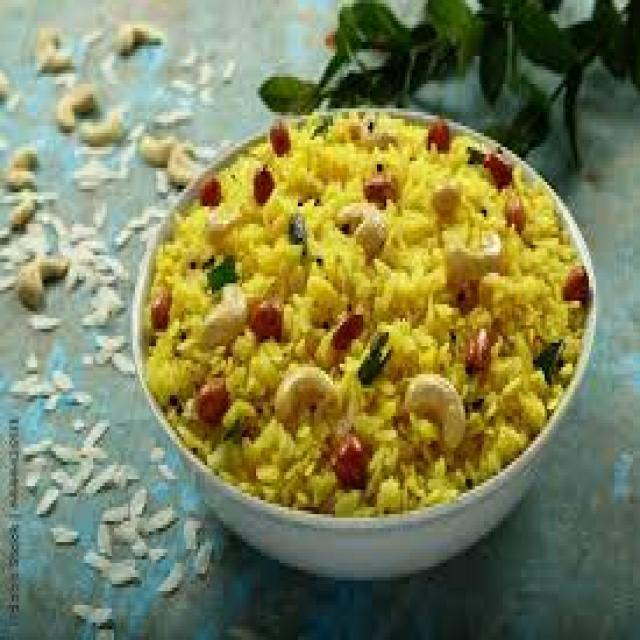POHA: (143, 120, 591, 517)
